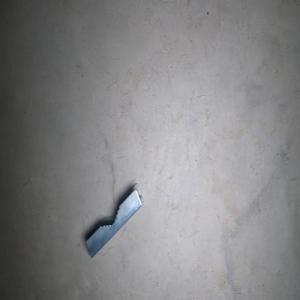ClampPart: (84, 181, 143, 259)
